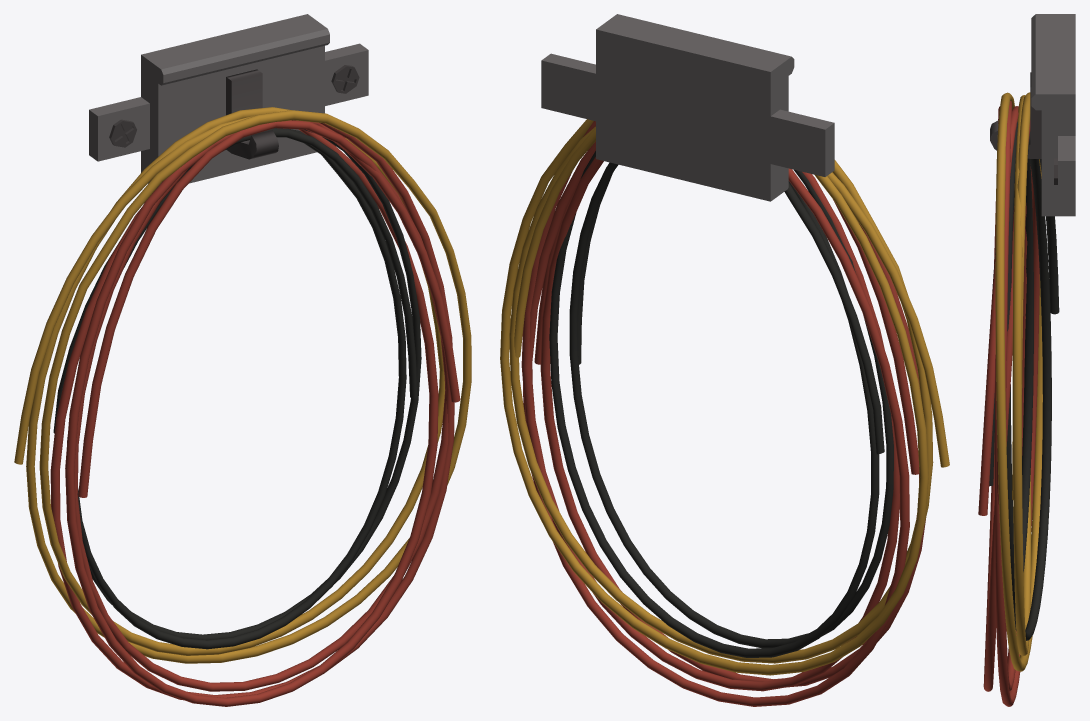
Rendered from CS_Curled_Wire.fbx.
The picture shows the model from 3 angles, left to right: view 1: azimuth 30°, elevation 25°; view 2: azimuth 150°, elevation 25°; view 3: azimuth 270°, elevation 25°; orthographic projection. The views are drawn at different scales.
Visible parts, largest first — view 1: polySurface1; view 2: polySurface1; view 3: polySurface1.
Boxes of the visible parts, x1,y1,x2,y2 form: polySurface1: (14, 14, 471, 706); polySurface1: (500, 14, 949, 706); polySurface1: (978, 14, 1075, 706).
Size of the model in its own units: 68.45 by 95.09 by 13.23.
